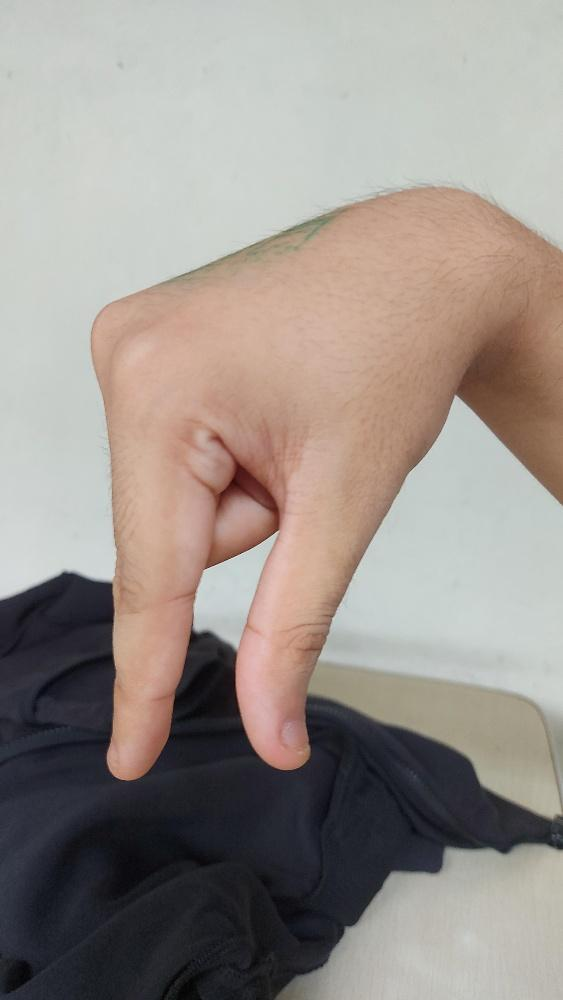q: (88, 183, 490, 781)
